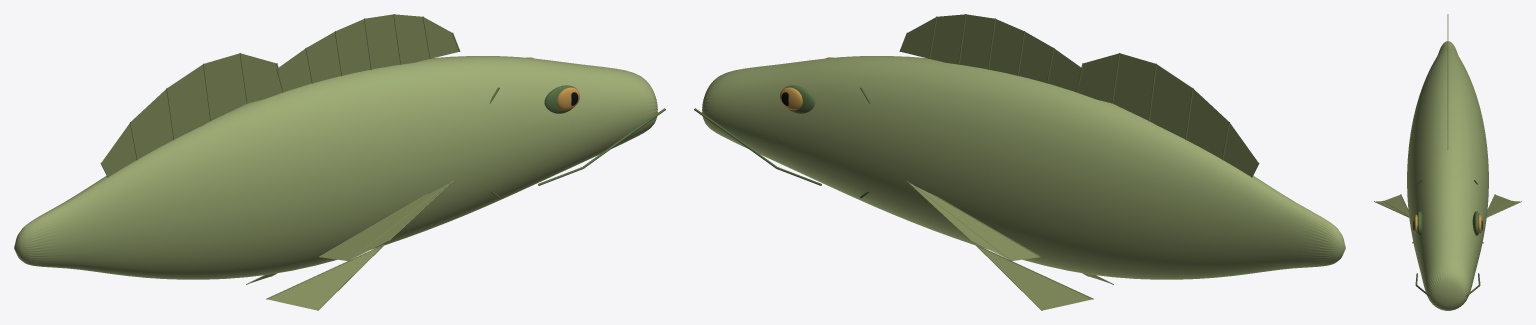
The model's file is SM_TroutBody.fbx.
3 views of the same model, side by side, from view 1: azimuth 30°, elevation 25°; view 2: azimuth 150°, elevation 25°; view 3: azimuth 270°, elevation 25° (orthographic). The views are drawn at different scales.
Visible parts, largest first — view 1: SM_TroutBody.001; view 2: SM_TroutBody.001; view 3: SM_TroutBody.001.
Boxes of the visible parts, x1,y1,x2,y2 form: SM_TroutBody.001: [14, 14, 665, 310]; SM_TroutBody.001: [694, 14, 1345, 310]; SM_TroutBody.001: [1374, 14, 1521, 310].
Size of the model in its own units: 41.5 by 10.85 by 16.01.
